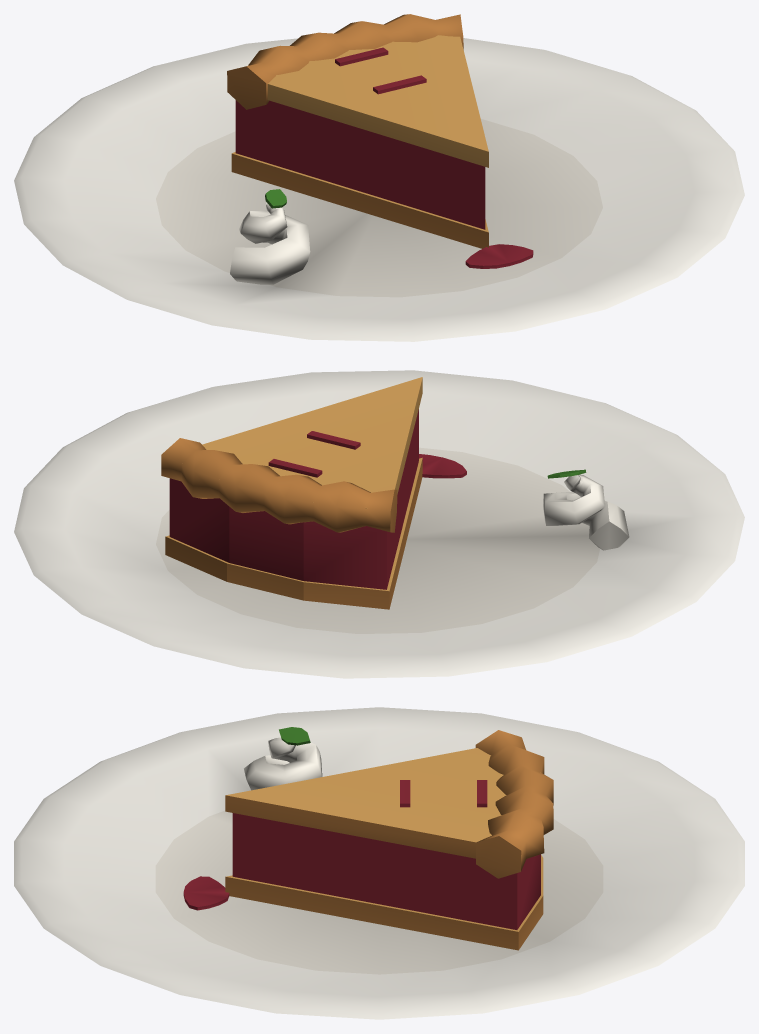
The model's file is pieSlice.glb.
3 views of the same model, one above another, from view 1: azimuth 30°, elevation 25°; view 2: azimuth 150°, elevation 25°; view 3: azimuth 270°, elevation 25° (orthographic).
Parts seen in each view (by area): view 1: pieSlice; view 2: pieSlice; view 3: pieSlice.
Boxes of the visible parts, bbox=[...] form: pieSlice: bbox=[14, 14, 744, 341]; pieSlice: bbox=[14, 370, 744, 678]; pieSlice: bbox=[14, 707, 744, 1019].
Bounding box in the file's own units: 0.2876 × 0.0592 × 0.2847.
